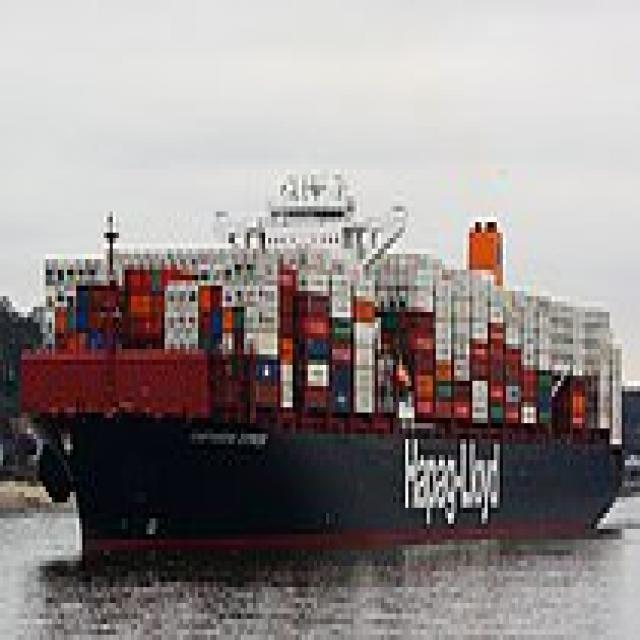Ship: (13, 144, 632, 573)
